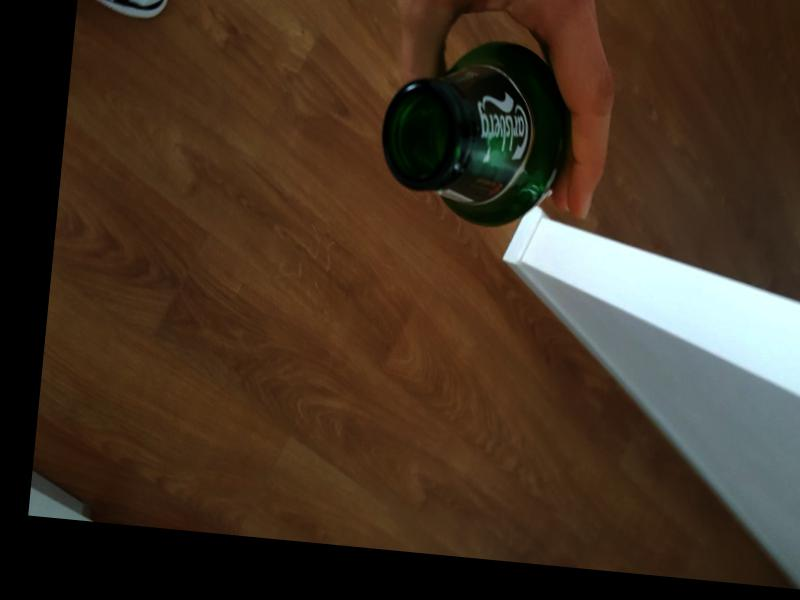Beer: (374, 28, 576, 233)
